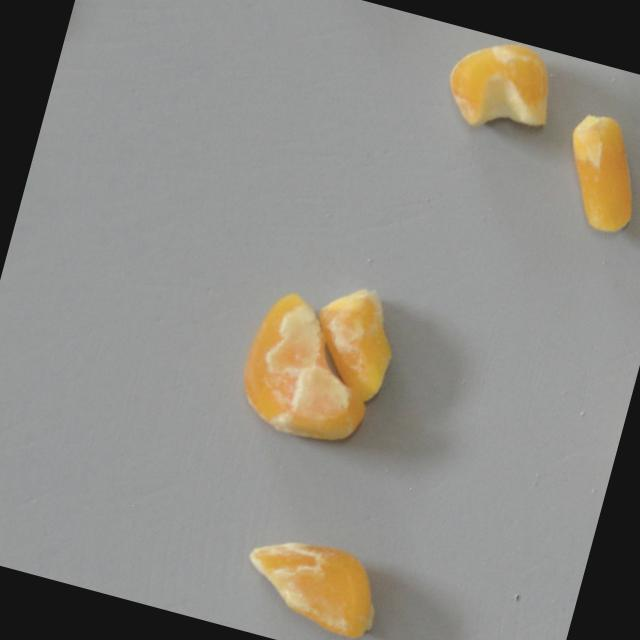estandar: (549, 108, 640, 239)
pelicula: (224, 290, 366, 469), (252, 496, 380, 640), (444, 29, 554, 149), (311, 279, 414, 404)
